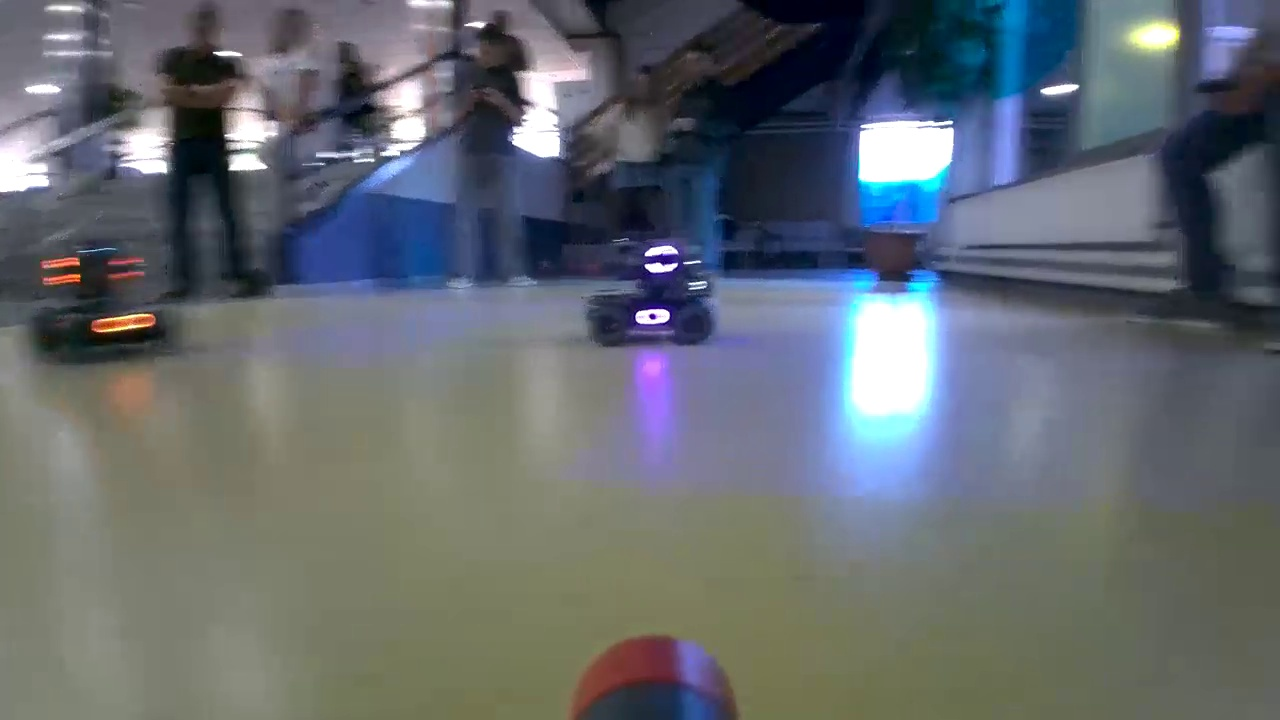robot: (44, 246, 185, 356), (576, 240, 714, 346)
